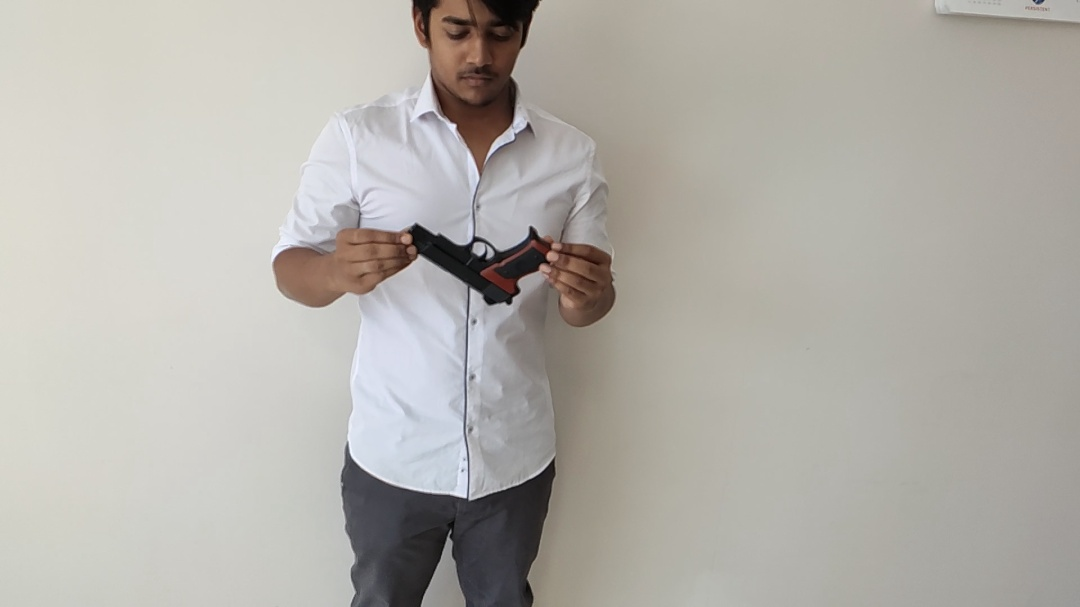gun: (403, 223, 553, 306)
